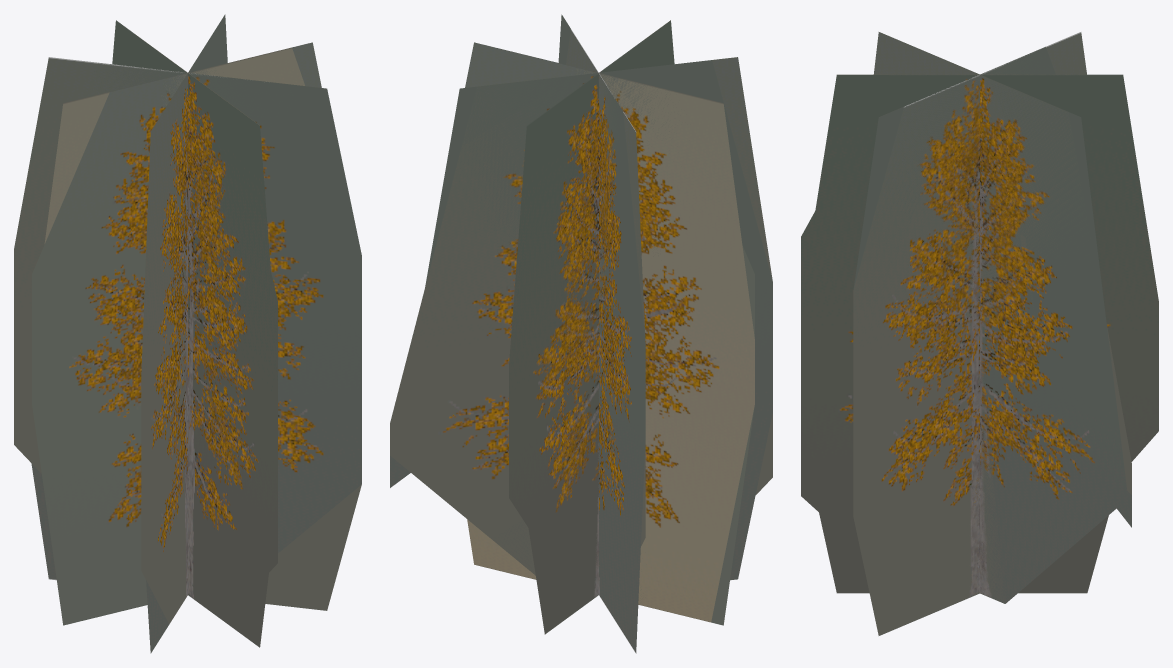
File: forest_Tree2_LOD1.fbx
3 renders of one model, left to right at view 1: azimuth 30°, elevation 25°; view 2: azimuth 150°, elevation 25°; view 3: azimuth 270°, elevation 25°, orthographic.
Parts seen in each view (by area): view 1: StaticMeshActor_14_StaticMeshComponent0.001; view 2: StaticMeshActor_14_StaticMeshComponent0.001; view 3: StaticMeshActor_14_StaticMeshComponent0.001.
Boxes of the visible parts, x1,y1,x2,y2 form: StaticMeshActor_14_StaticMeshComponent0.001: (14,14,361,653); StaticMeshActor_14_StaticMeshComponent0.001: (390,14,772,653); StaticMeshActor_14_StaticMeshComponent0.001: (801,32,1158,635).
Size of the model in its own units: 18.62 by 29.8 by 18.62.
